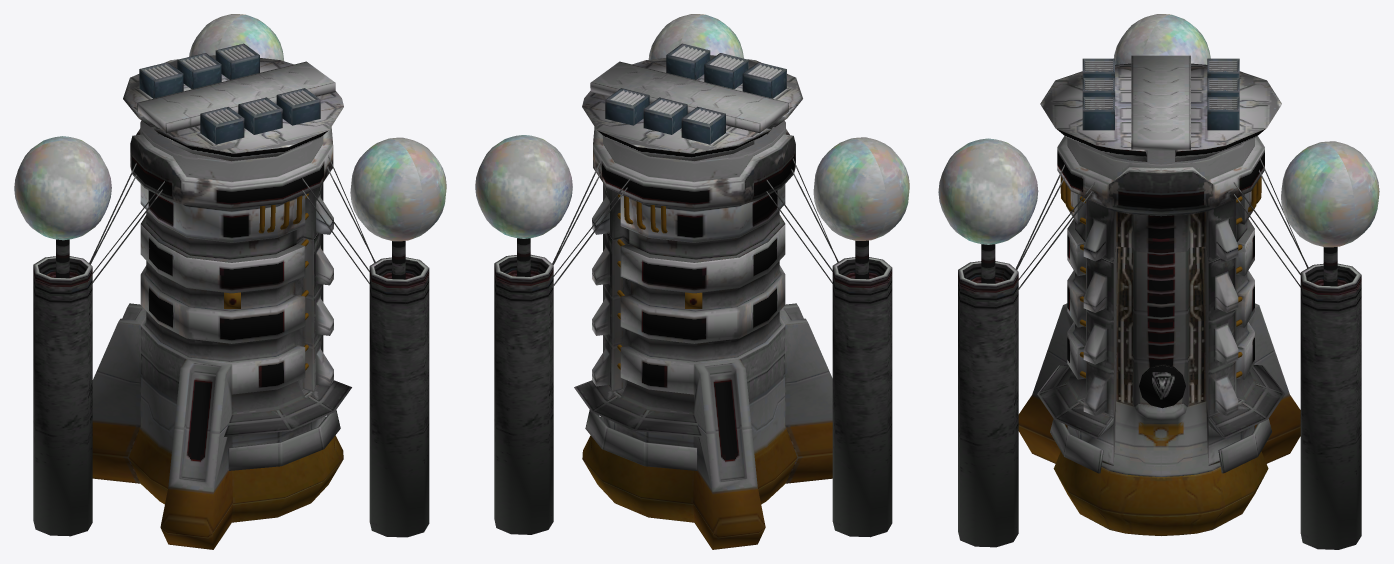
The model's file is UPLElectrostaticDefenseTower.glb.
3 renders of one model, left to right at view 1: azimuth 30°, elevation 25°; view 2: azimuth 150°, elevation 25°; view 3: azimuth 270°, elevation 25°, orthographic. The views are drawn at different scales.
Parts seen in each view (by area): view 1: base, Electrostatic BALLZ; view 2: base, Electrostatic BALLZ; view 3: base, Electrostatic BALLZ.
Part boxes in pixels (x1,y1,x2,y2): base: (33, 43, 429, 549); Electrostatic BALLZ: (14, 14, 446, 241); base: (494, 43, 892, 549); Electrostatic BALLZ: (475, 14, 909, 240); base: (958, 55, 1361, 549); Electrostatic BALLZ: (938, 14, 1379, 247).
Bounding box in the file's own units: 2.01 × 2.27 × 2.21.
Materials: 2 (2 with a texture image).
